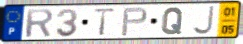3: (55, 7, 80, 38)
J: (191, 5, 216, 36)
P: (120, 6, 150, 37)
Q: (160, 6, 185, 36)
R: (24, 8, 55, 39)
T: (92, 7, 118, 37)
